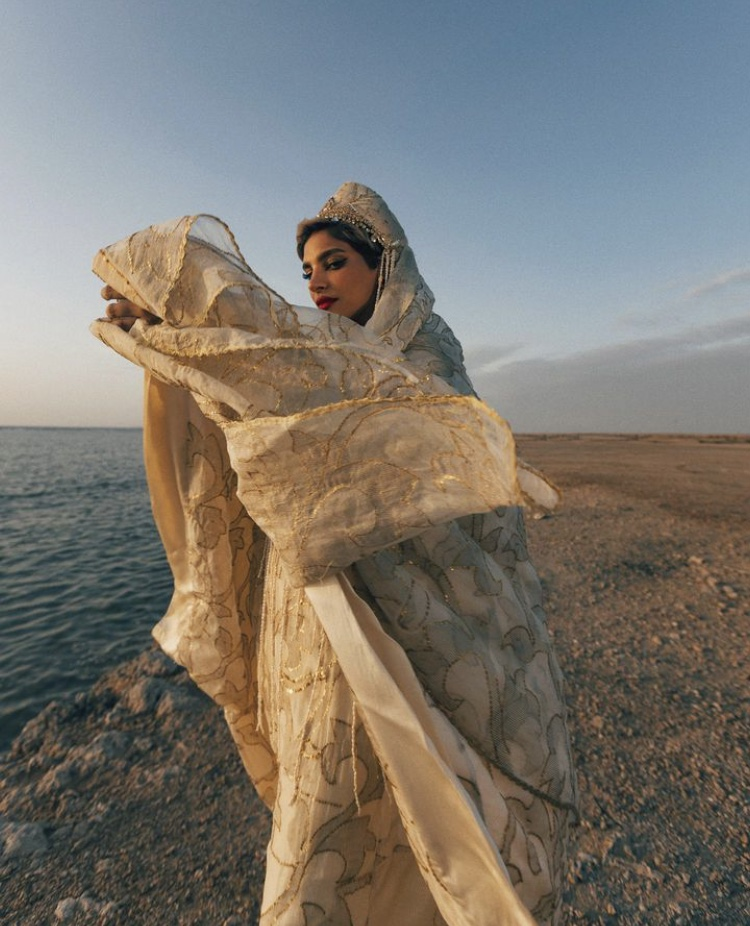Saudi_Founding_Day: (81, 175, 601, 923)
